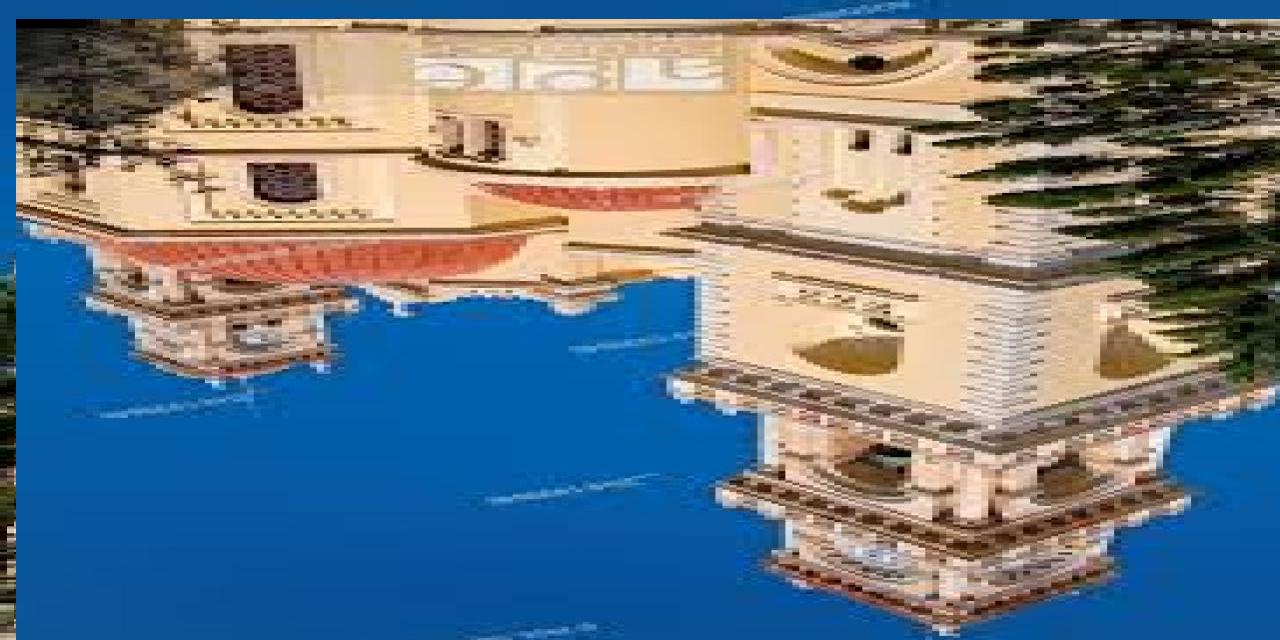Agios Minas: (17, 20, 1280, 640)
